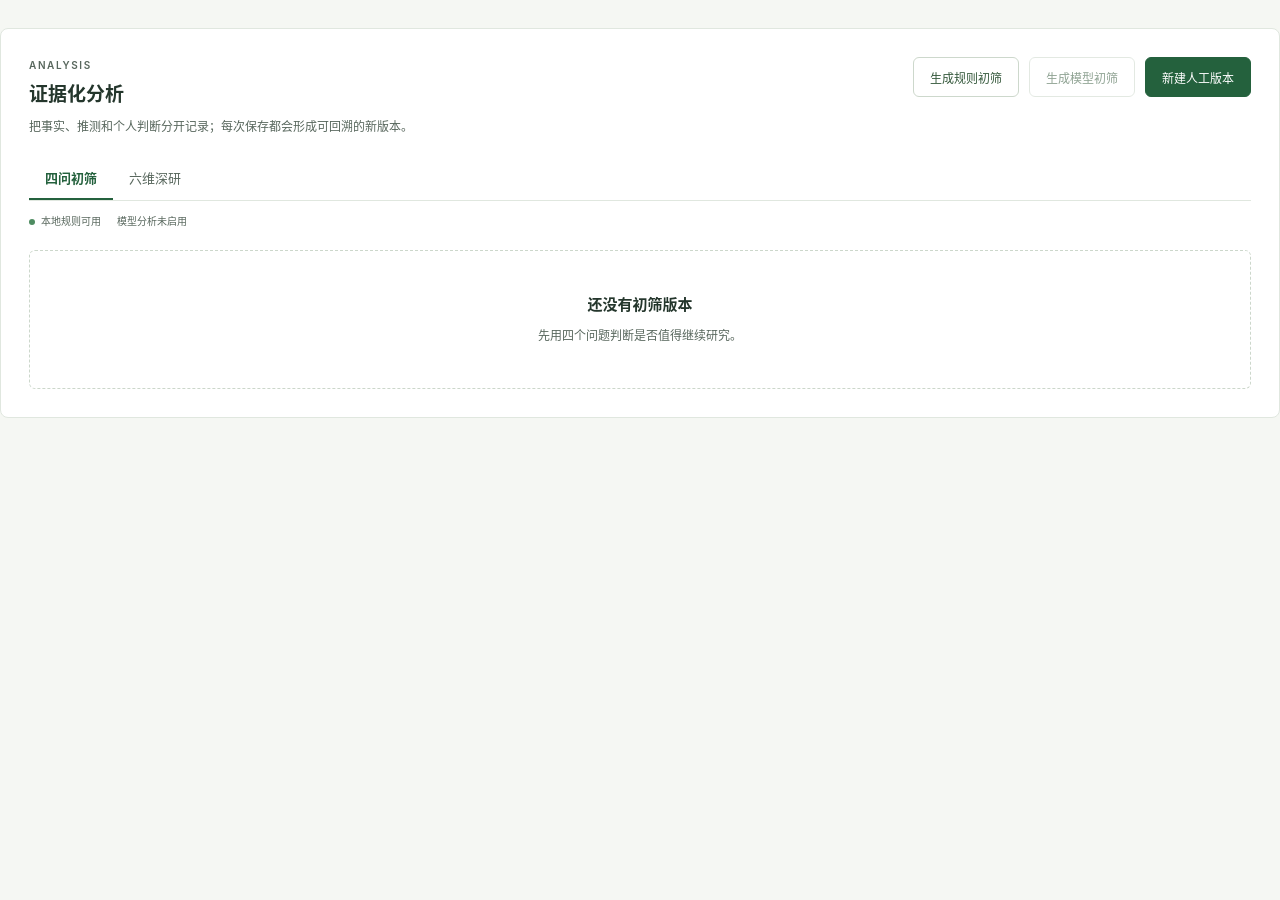
Test: AnalysisPanel › generates a local rules version from explicitly selected private evidence
The image size is (1280, 900).
Expected: the heading "还没有初筛版本" is shown, [588, 295, 692, 314]
What coordinates should you click on to do the following:
click the button "生成规则初筛"
I would click on:
 (966, 77)
Its box is [913, 57, 1019, 97].
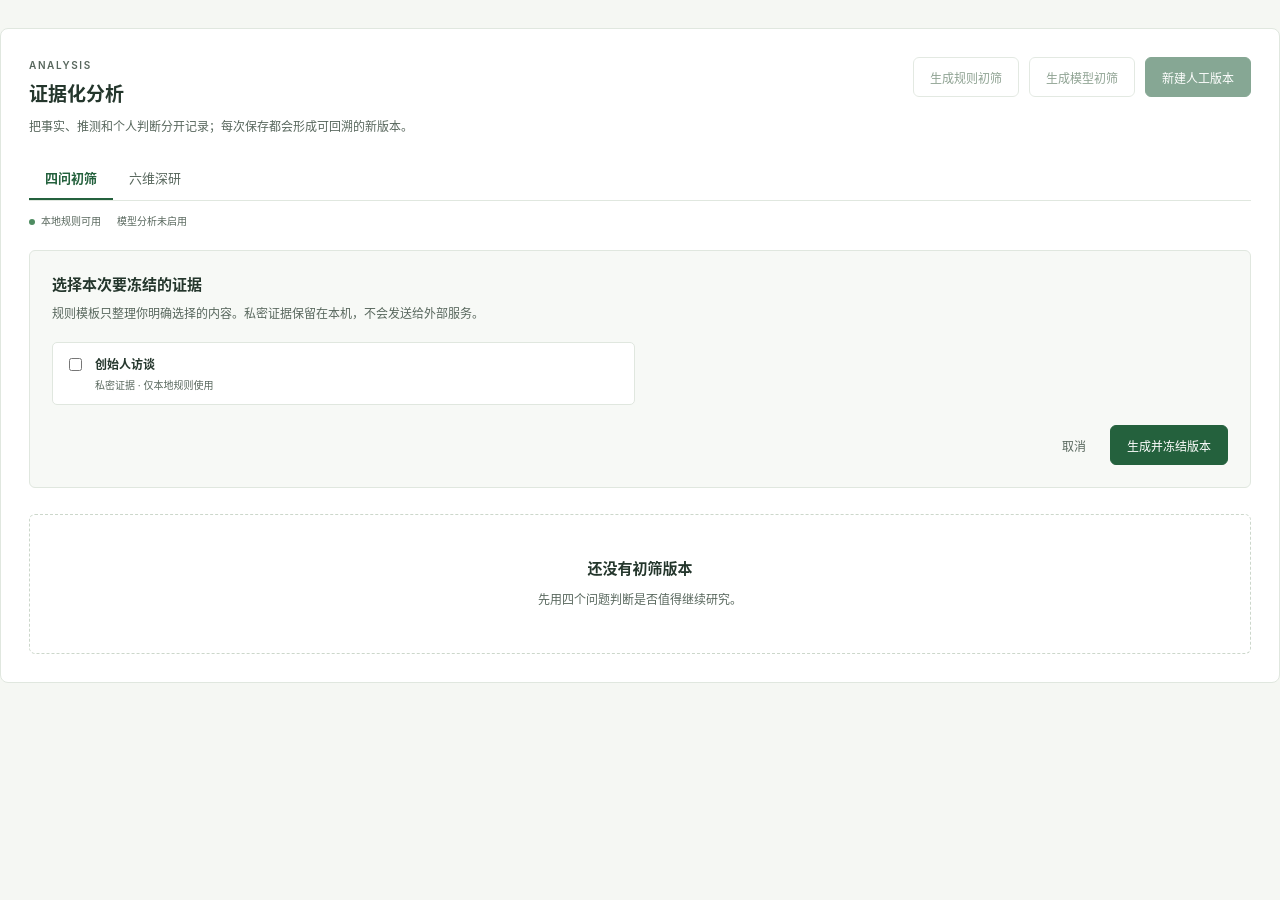
What coordinates should you click on to do the following:
click the checkbox labelled "创始人访谈 私密证据 · 仅本地规则使用"
I would click on:
 (76, 365)
Its box is [69, 358, 82, 371].
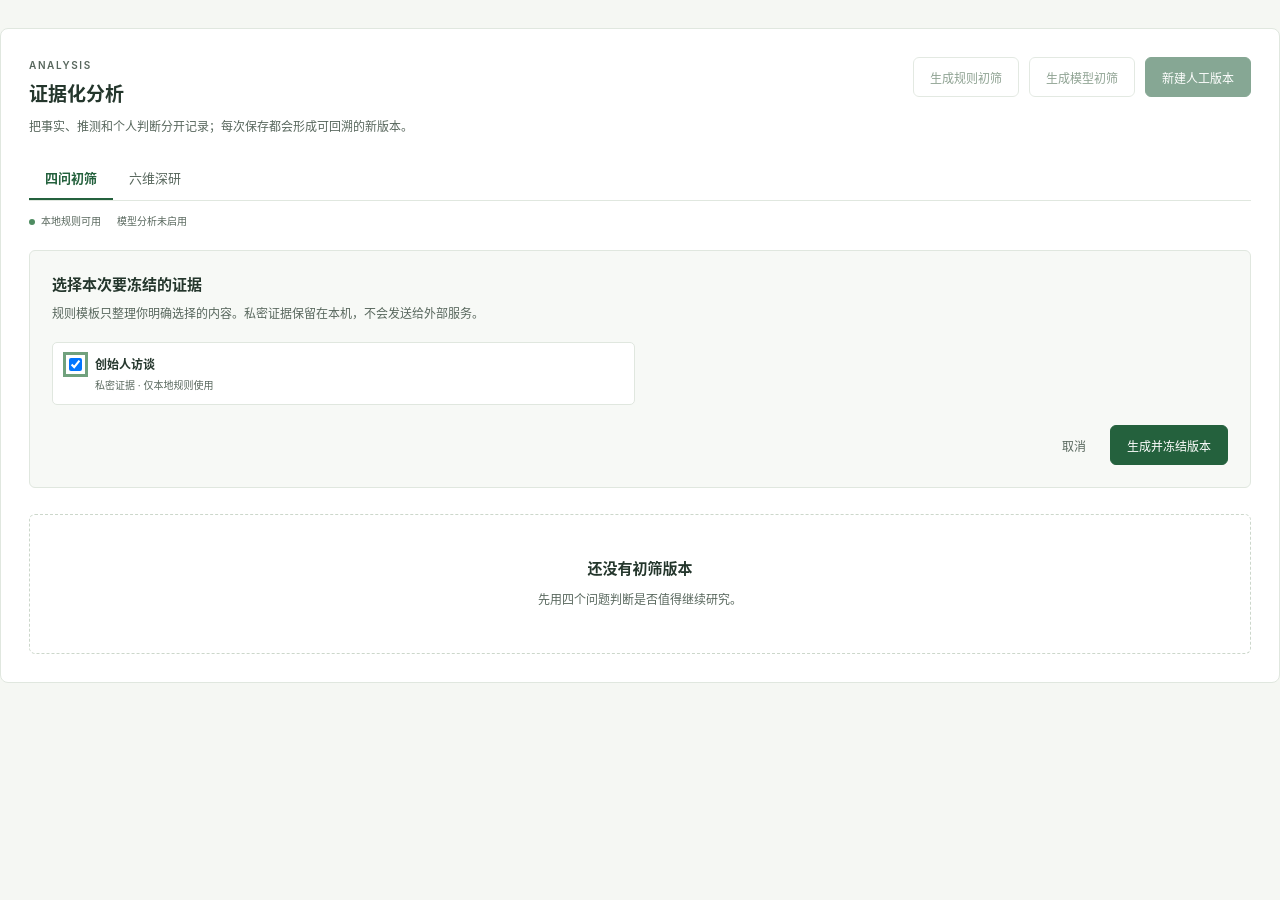
What coordinates should you click on to do the following:
click the button "生成并冻结版本"
I would click on:
 (1169, 445)
Its box is [1110, 425, 1228, 465].
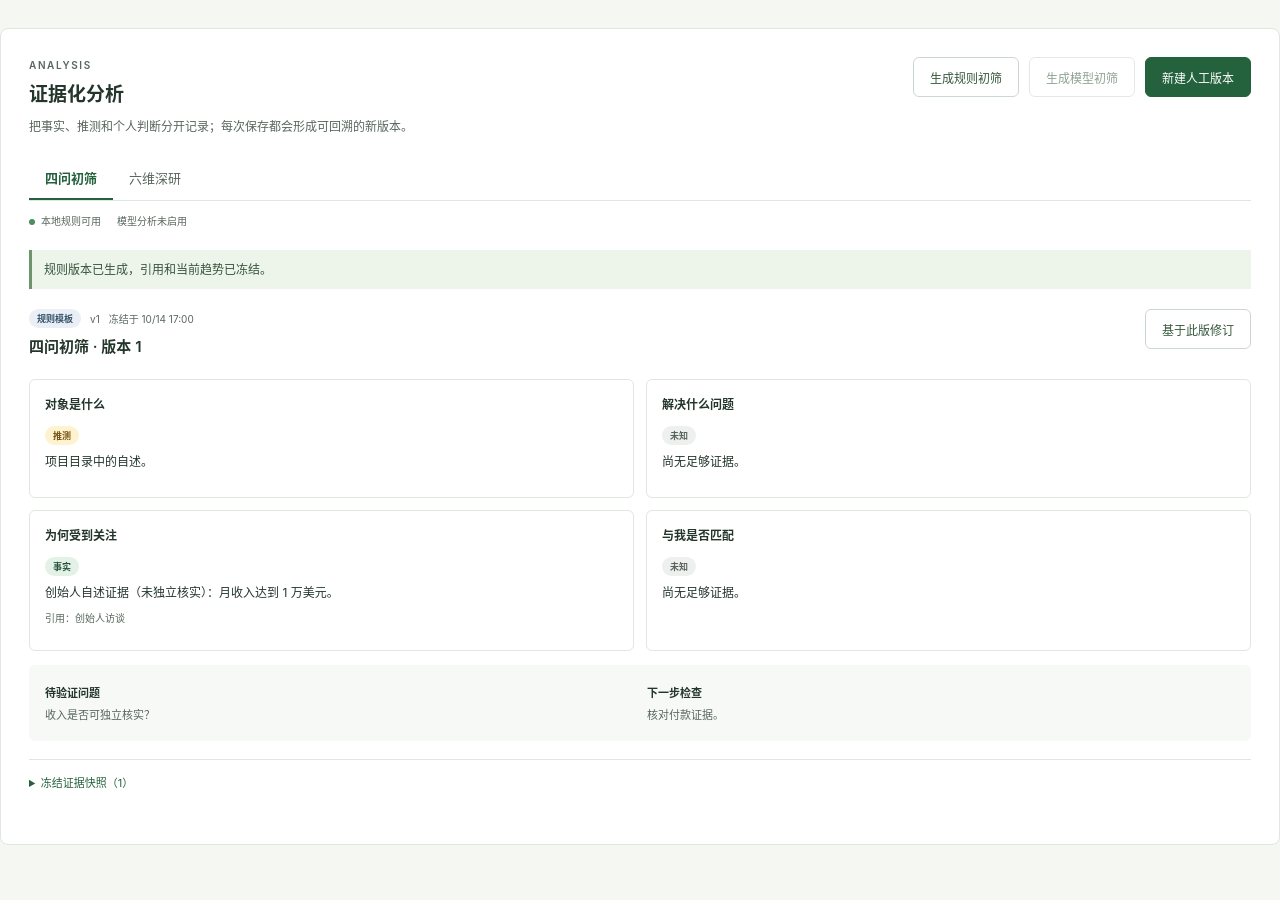
Now the text "创始人自述证据（未独立核实）：月收入达到 1 万美元。" is shown, box [45, 585, 339, 600]
Now the text "事实" is shown, box [45, 557, 79, 576]
